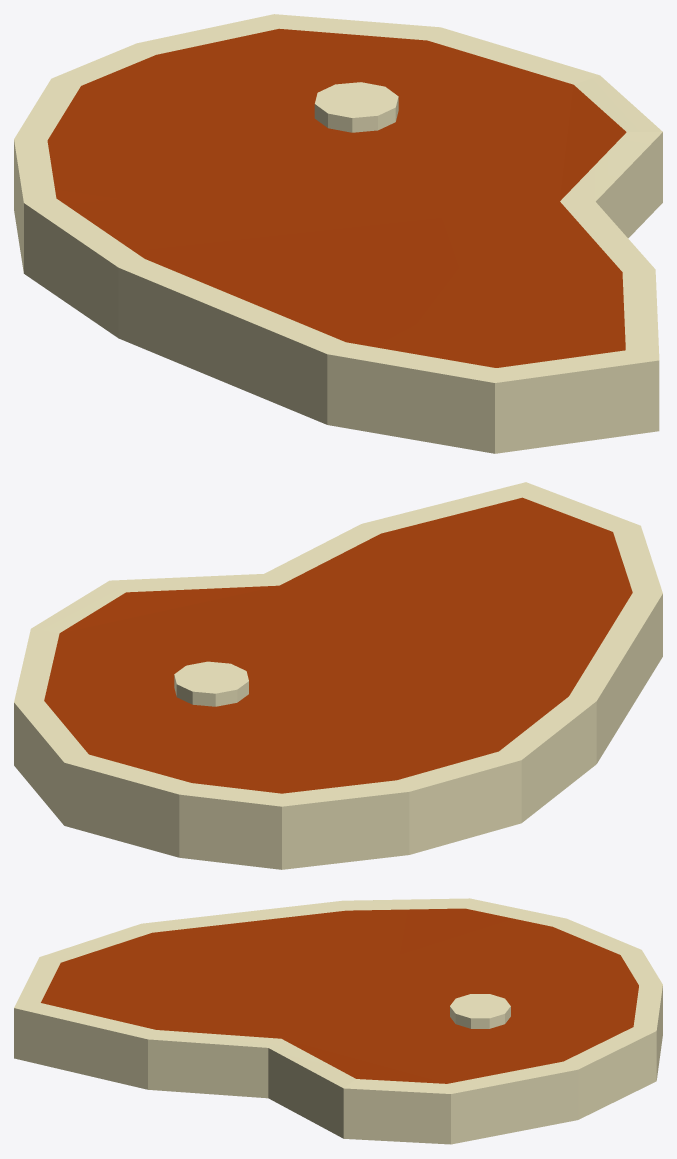
Rendered from Cooked Steak_1.fbx.
The picture shows the model from 3 angles, top to bottom: view 1: azimuth 30°, elevation 25°; view 2: azimuth 150°, elevation 25°; view 3: azimuth 270°, elevation 25°; orthographic projection. The views are drawn at different scales.
Visible parts, largest first — view 1: Cooked Steak_1; view 2: Cooked Steak_1; view 3: Cooked Steak_1.
Boxes of the visible parts, x1,y1,x2,y2 form: Cooked Steak_1: (14,14,662,453); Cooked Steak_1: (14,482,662,869); Cooked Steak_1: (14,898,662,1144).
Bounding box in the file's own units: 36.74 × 6.33 × 51.5.
